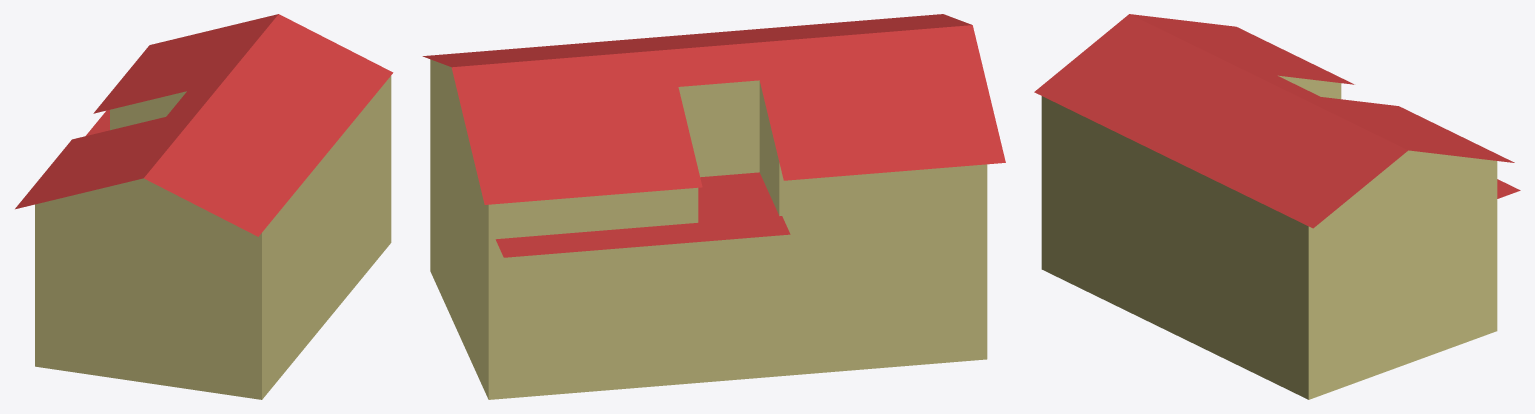
3 views of the same model, side by side, from view 1: azimuth 30°, elevation 25°; view 2: azimuth 150°, elevation 25°; view 3: azimuth 270°, elevation 25° (orthographic). The views are drawn at different scales.
Size of the model in its own units: 30.46 by 29.79 by 14.64.
